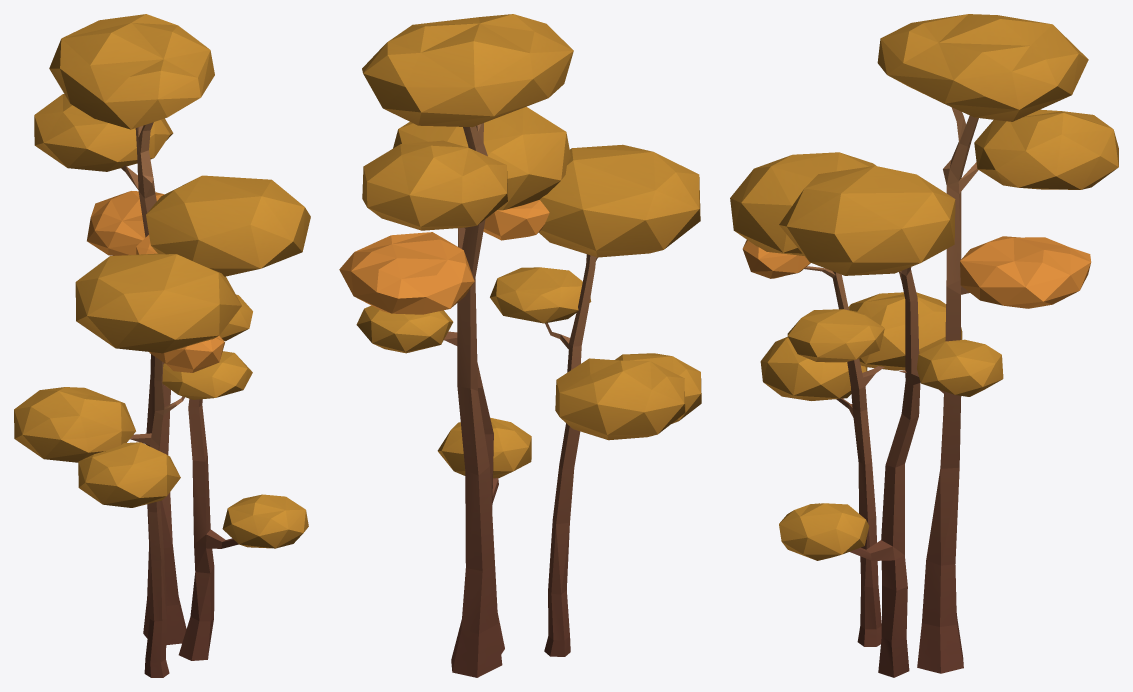
The model's file is ZLP_Plant_F_13.FBX.
3 views of the same model, side by side, from view 1: azimuth 30°, elevation 25°; view 2: azimuth 150°, elevation 25°; view 3: azimuth 270°, elevation 25° (orthographic). The views are drawn at different scales.
Parts seen in each view (by area): view 1: ZLP_Plant_F_13; view 2: ZLP_Plant_F_13; view 3: ZLP_Plant_F_13.
Part boxes in pixels (x1,y1,x2,y2): ZLP_Plant_F_13: [14, 14, 310, 677]; ZLP_Plant_F_13: [339, 14, 701, 677]; ZLP_Plant_F_13: [730, 14, 1118, 677].
Size of the model in its own units: 280 by 591 by 328.
